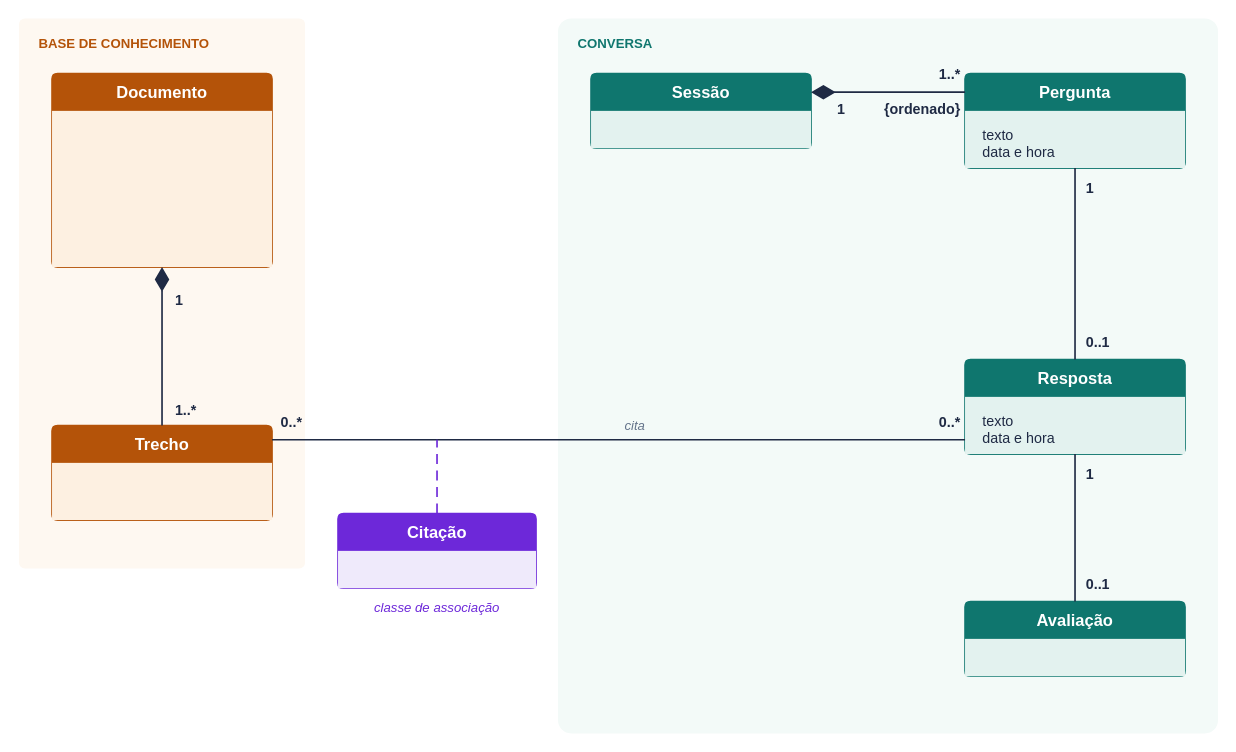
Image size: 1236x752. Some labels were removed from this diagram. The shapes that lost their labels are listed below. From the top down, each one's centre as x and y in pixels, then its label:
At (700,129): "hora de início".
At (161,188): "título tipo de arquivo origem data de envio situação motivo da falha tentativas".
At (161,491): "texto posição".
At (436,569): "relevância".
At (1074,657): "útil (sim/não)".
